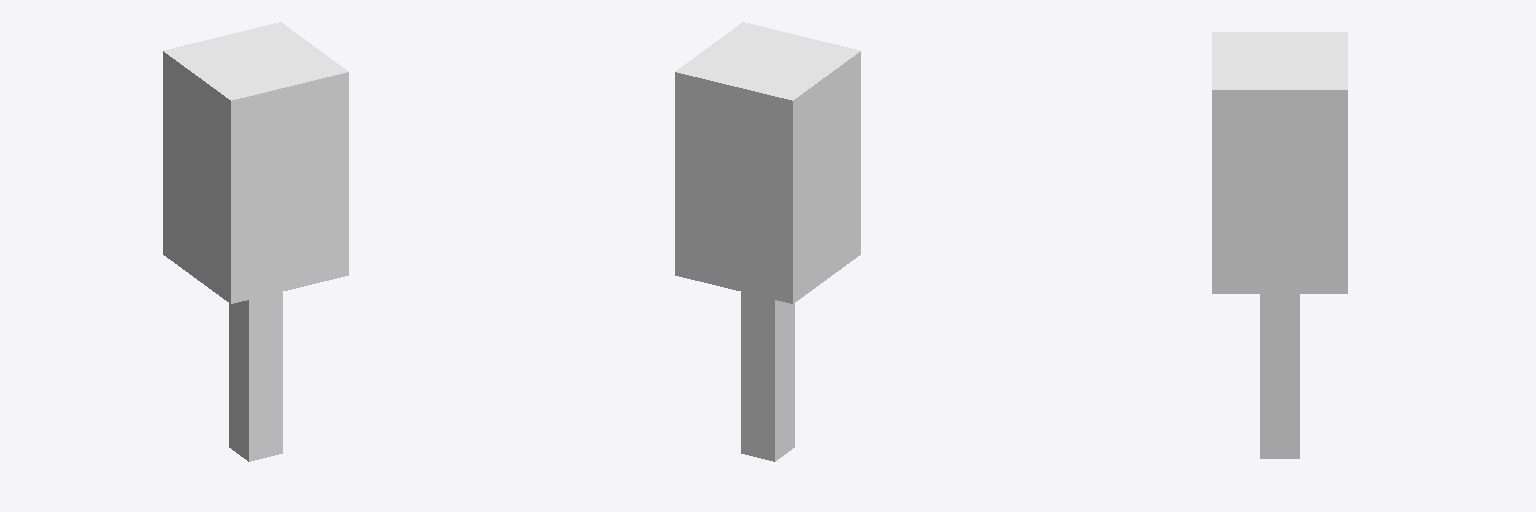
Rendered from tree_medium.obj.
The picture shows the model from 3 angles: view 1: azimuth 30°, elevation 25°; view 2: azimuth 150°, elevation 25°; view 3: azimuth 270°, elevation 25°; orthographic projection.
Visible parts, largest first — view 1: object 1; view 2: object 1; view 3: object 1.
Boxes of the visible parts, x1,y1,x2,y2 form: object 1: [163, 22, 348, 461]; object 1: [675, 22, 860, 461]; object 1: [1212, 32, 1347, 458].
Bounding box in the file's own units: 1.4 × 4.4 × 1.4.